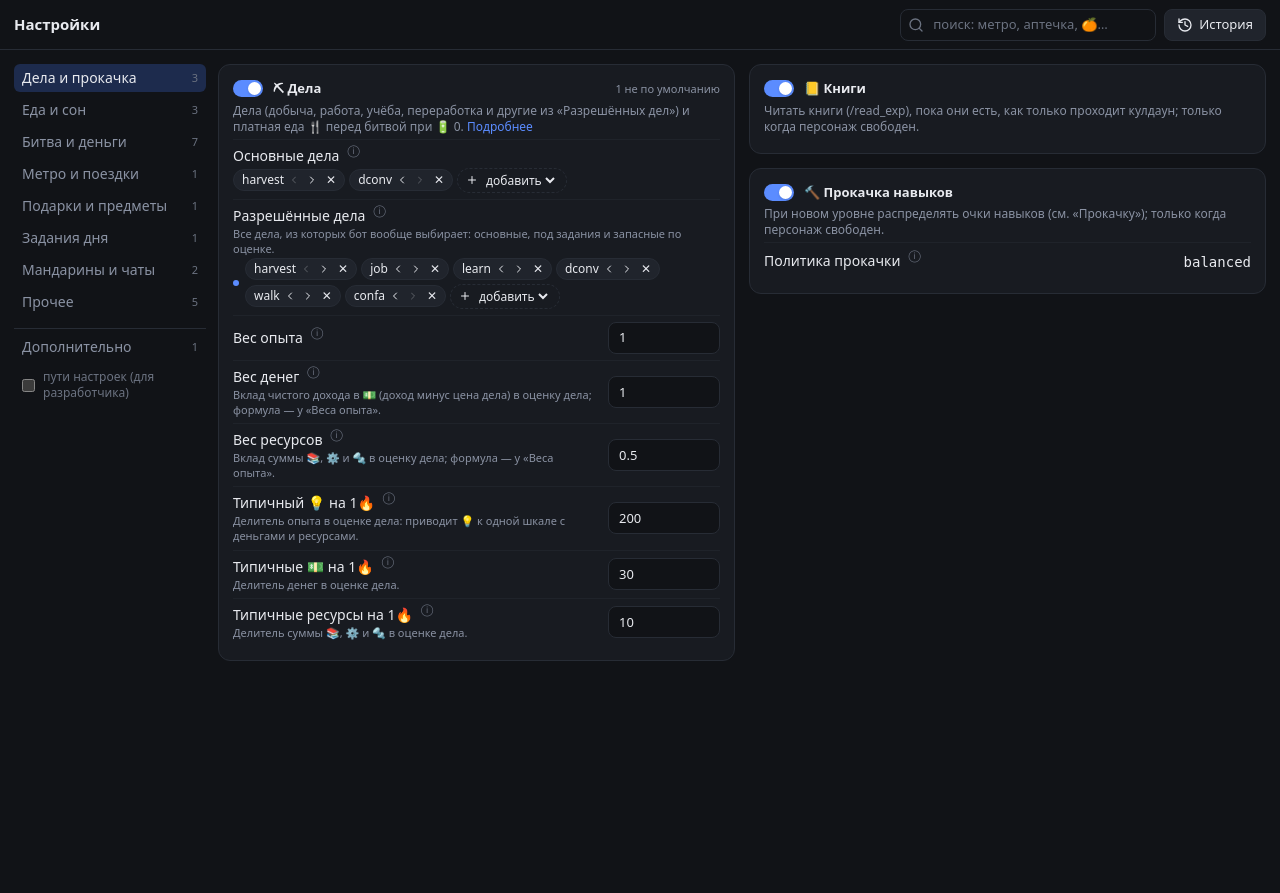
Настройки › каналы смузи и биржевиков — в карточках своих механик
The image size is (1280, 893).
Click the button "Еда и сон 3": x=110, y=110 [14, 96, 206, 124]
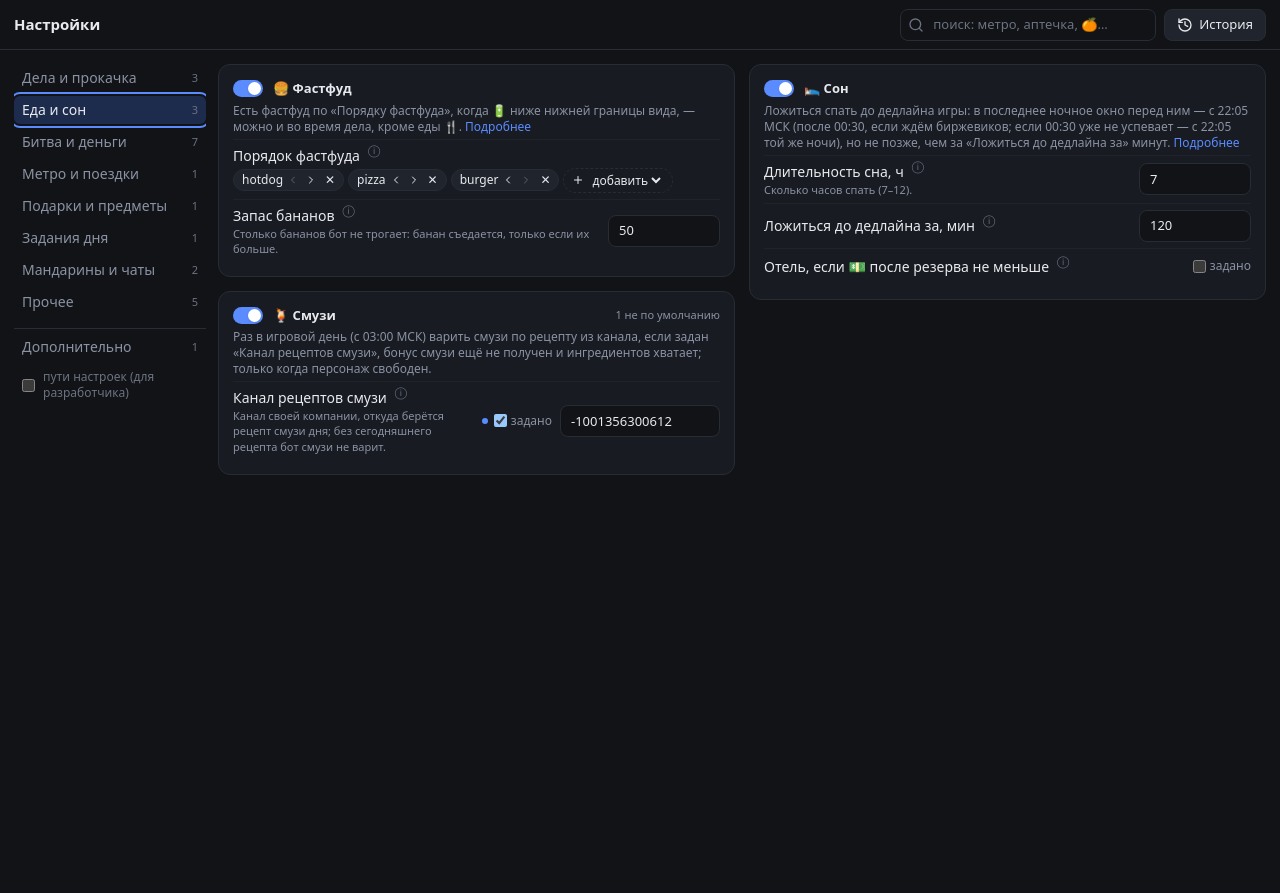
Now the element that starts with "Канал рецептов смузи" is shown, box [233, 381, 720, 460]
Click the button "Битва и деньги 7": x=110, y=142 [14, 128, 206, 156]
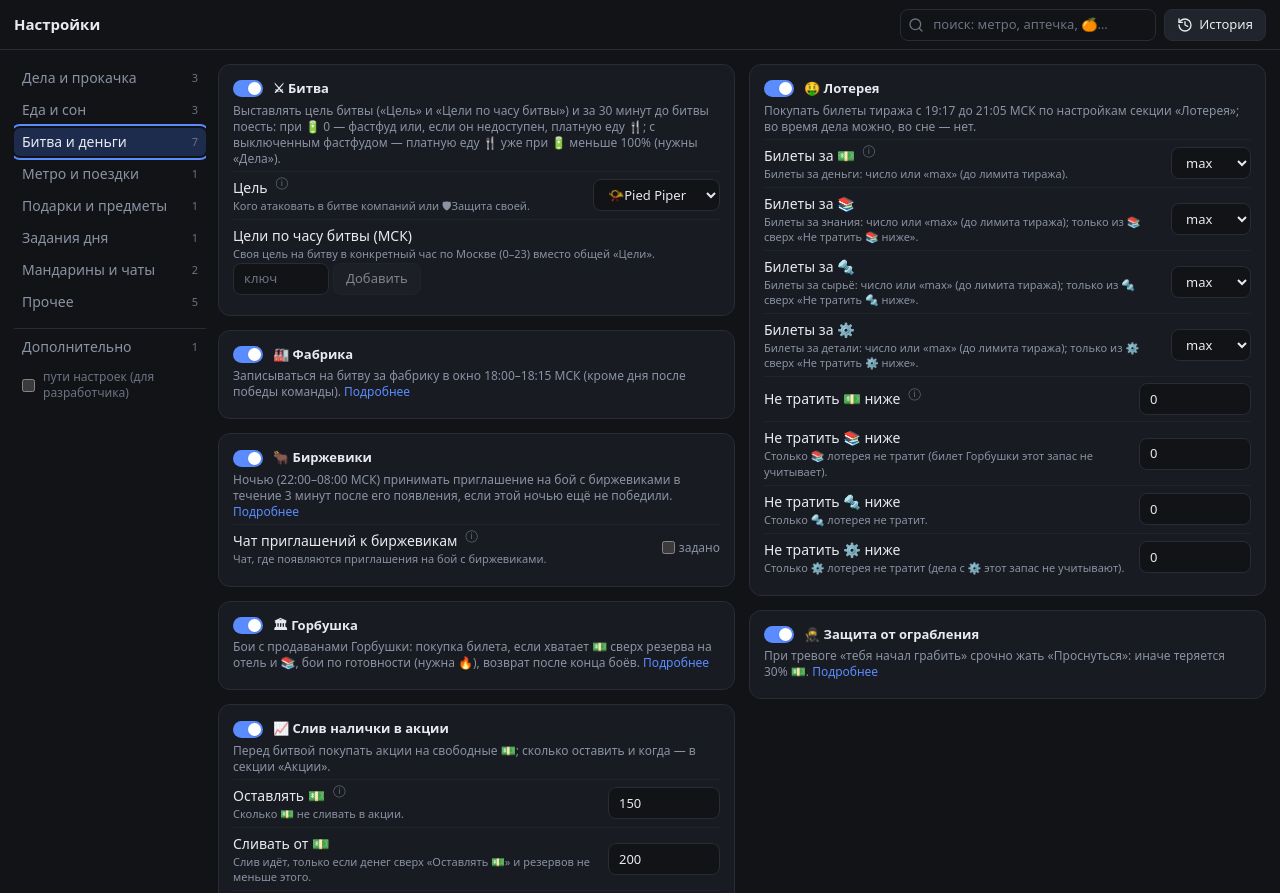
Now the element that starts with "Чат приглашений к биржевикам" is shown, box [233, 524, 720, 572]
Now the switch named "Защита от ограбления" is shown, box [764, 626, 794, 643]
